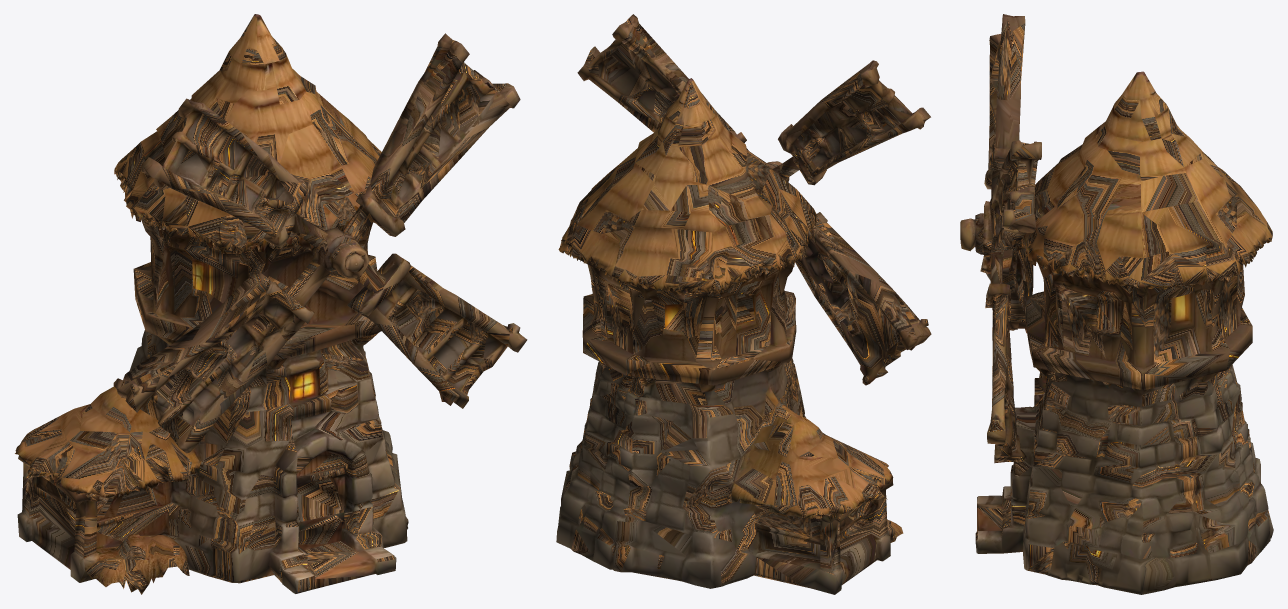
Rendered from Windmill_Haven.glb.
3 renders of one model, left to right at view 1: azimuth 30°, elevation 25°; view 2: azimuth 150°, elevation 25°; view 3: azimuth 270°, elevation 25°, orthographic. The views are drawn at different scales.
Parts seen in each view (by area): view 1: Windmill_Haven; view 2: Windmill_Haven; view 3: Windmill_Haven.
Part boxes in pixels (<box>): Windmill_Haven: <box>15,14,527,594</box>; Windmill_Haven: <box>556,14,931,594</box>; Windmill_Haven: <box>960,14,1273,594</box>.
Size of the model in its own units: 1.72 by 2 by 1.23.
1 material, 1 textured.
